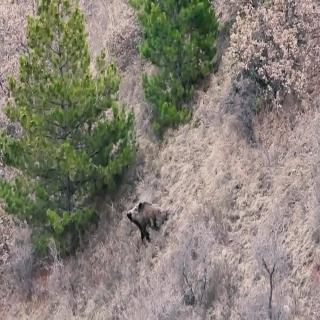Pig: (124, 193, 184, 243)
